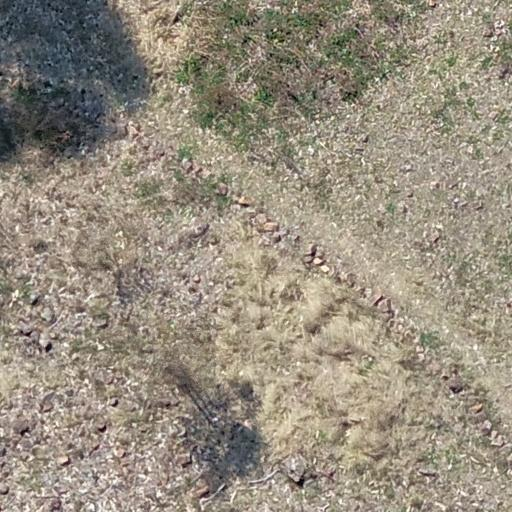stone: (179, 222, 210, 245), (284, 456, 306, 484), (446, 374, 464, 394), (39, 392, 57, 412), (16, 435, 34, 453), (191, 484, 211, 500), (38, 332, 53, 352), (18, 320, 36, 336), (45, 497, 62, 512), (472, 407, 488, 422), (94, 315, 110, 330), (260, 220, 279, 232), (344, 272, 358, 288), (489, 434, 505, 448), (479, 421, 493, 436), (40, 308, 54, 323), (497, 65, 511, 80), (56, 454, 72, 467), (367, 292, 381, 306), (112, 446, 126, 460), (8, 76, 22, 90), (494, 19, 506, 35), (216, 182, 229, 196), (353, 26, 366, 40), (376, 300, 391, 312), (180, 456, 193, 469), (469, 402, 483, 414), (126, 125, 138, 138), (237, 196, 251, 207), (271, 232, 283, 244), (175, 426, 187, 438), (254, 213, 268, 223), (256, 224, 270, 234), (29, 293, 40, 305), (489, 110, 500, 122), (304, 242, 314, 255), (336, 272, 350, 281), (19, 426, 30, 437), (303, 254, 315, 264), (452, 196, 462, 208), (0, 482, 9, 495), (11, 288, 20, 301), (430, 180, 441, 190), (483, 28, 494, 38), (400, 202, 409, 214), (243, 418, 252, 430), (352, 286, 365, 294), (184, 161, 194, 171), (193, 166, 203, 176), (97, 423, 107, 433), (109, 398, 119, 408), (474, 202, 484, 211), (431, 234, 439, 244), (362, 134, 370, 144), (163, 401, 173, 409), (427, 0, 437, 8), (278, 227, 288, 235), (416, 345, 425, 353), (417, 353, 426, 361), (314, 258, 324, 265), (193, 273, 200, 283), (319, 266, 330, 272), (288, 234, 299, 240), (406, 190, 414, 198), (441, 374, 450, 380), (508, 300, 512, 309)
